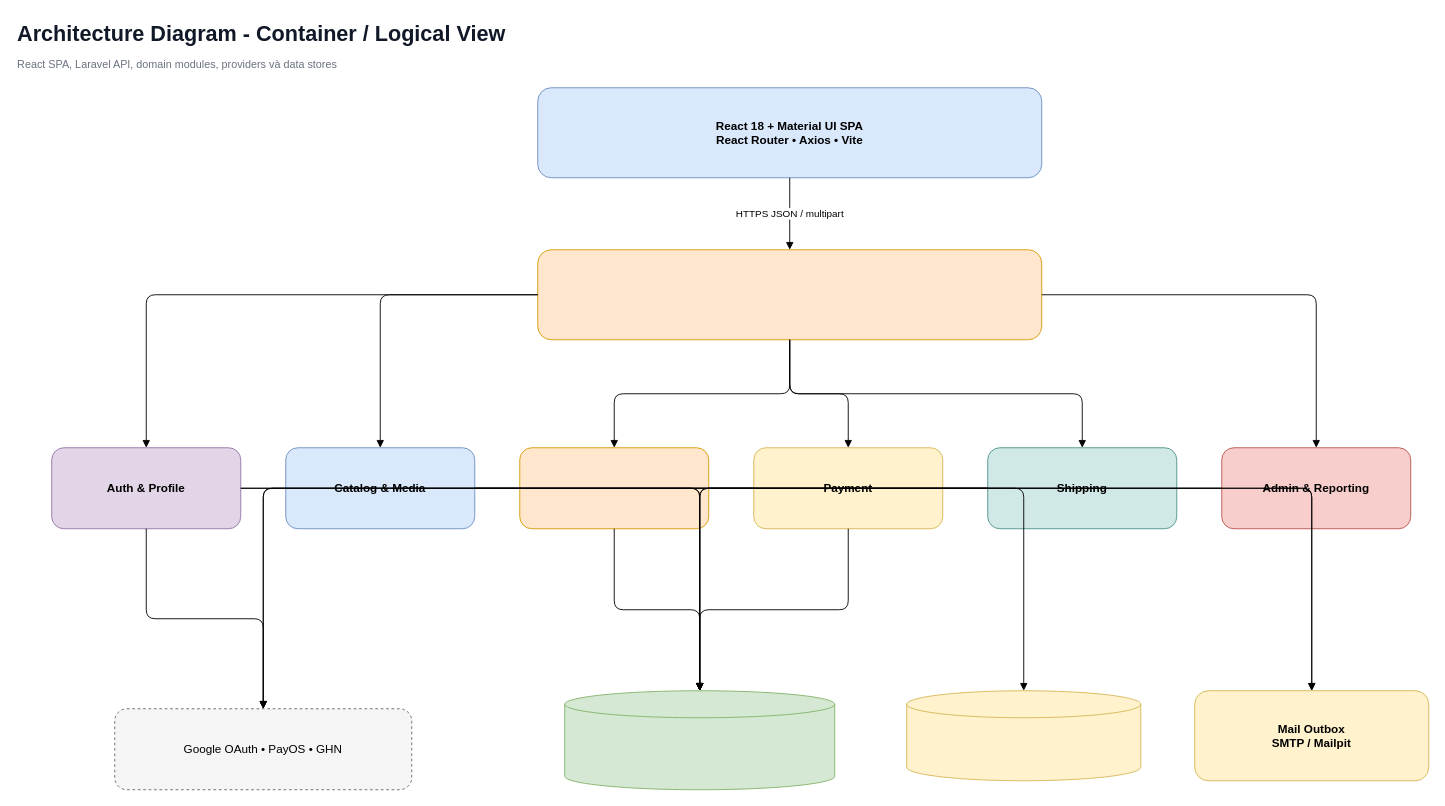
The diagram is 1445 pixels wide and 806 high, and some of its shapes have lost their labels. The centre of each missing label's shape, as x and y in pixels:
Cart & Order: point (614, 488)
Laravel 12 API Routing • Middleware • Sanctum: point (789, 294)
Laravel Filesystem Local / S3-compatible: point (1023, 735)
PostgreSQL 16 Canonical Laravel schema: point (699, 740)
